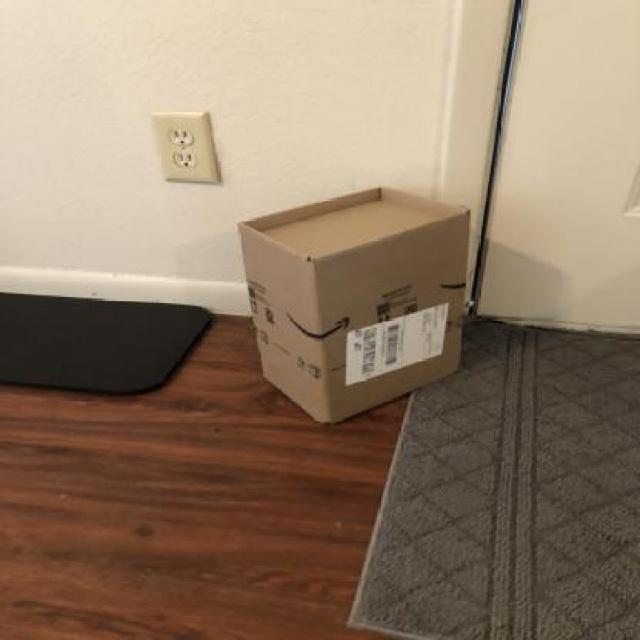cardboxes: (234, 180, 475, 432)
